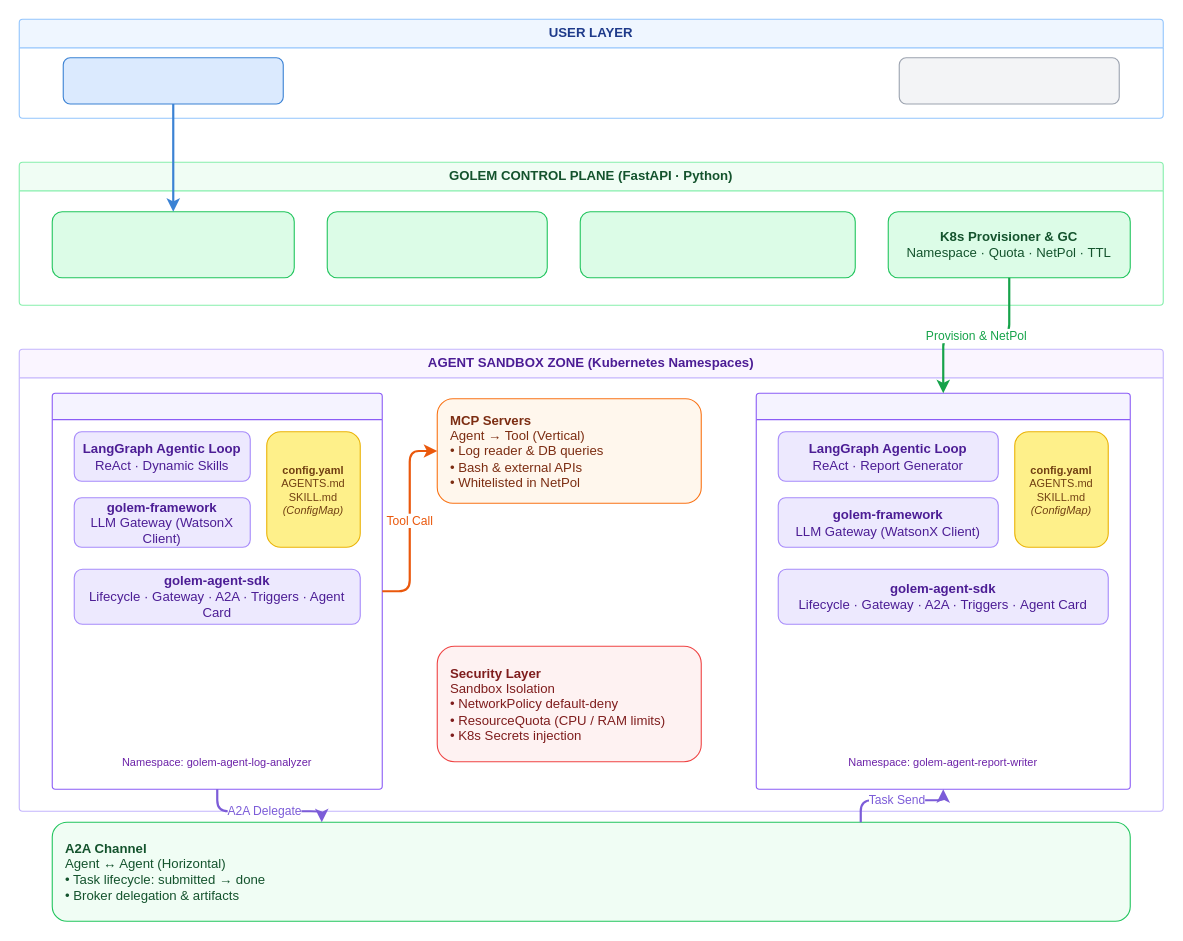
Image size: 1183x941. Some labels were removed from this diagram. The shapes that lost their labels are listed below. From the top down, each one's box as (x1, y1, x2, y2) in pixels, then its label:
(62, 57, 283, 104): Golem CLI Python · Typer
(898, 57, 1119, 104): Web UI (Future Development)
(51, 211, 294, 278): REST & WS API /agents · /tasks · /conversations
(326, 211, 547, 278): WebSocket Chat Proxy Single ClusterIP Gateway
(579, 211, 855, 278): A2A Card Registry & Broker Push / Pull Handshake · Peer Discovery
(51, 392, 382, 789): Golem Runner (Pod A: Log-Analyzer)
(755, 392, 1130, 789): Golem Runner (Pod B: Report-Writer)
